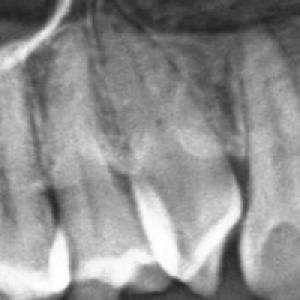tooth: (92, 3, 244, 294), (43, 29, 166, 292), (235, 24, 300, 300)
